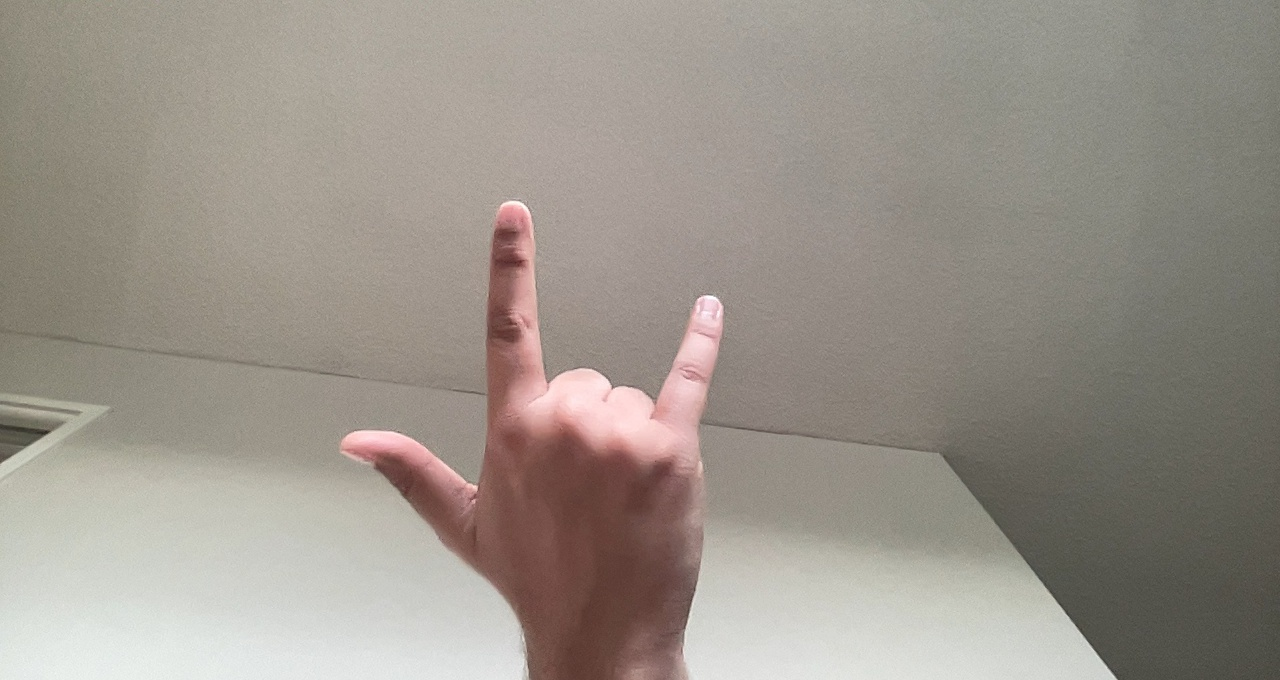rockon sign: (335, 194, 733, 653)
